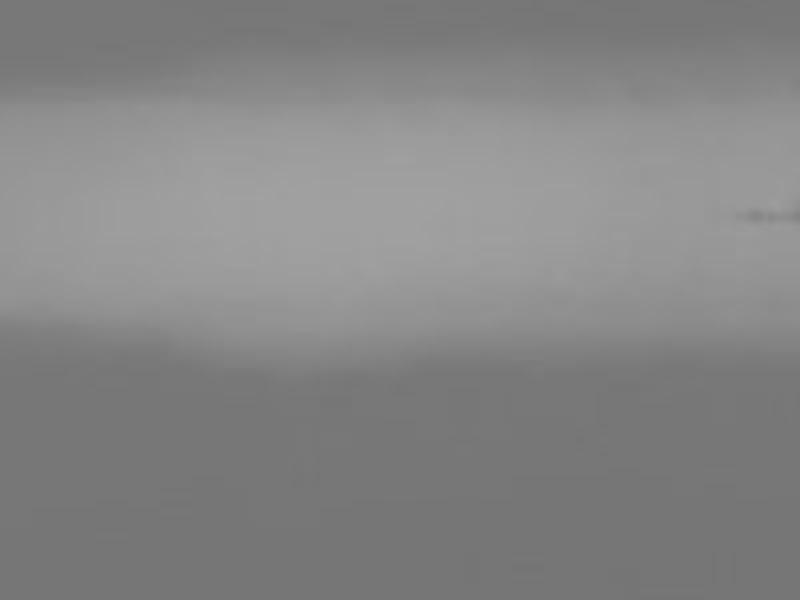defect: (742, 206, 793, 224)
